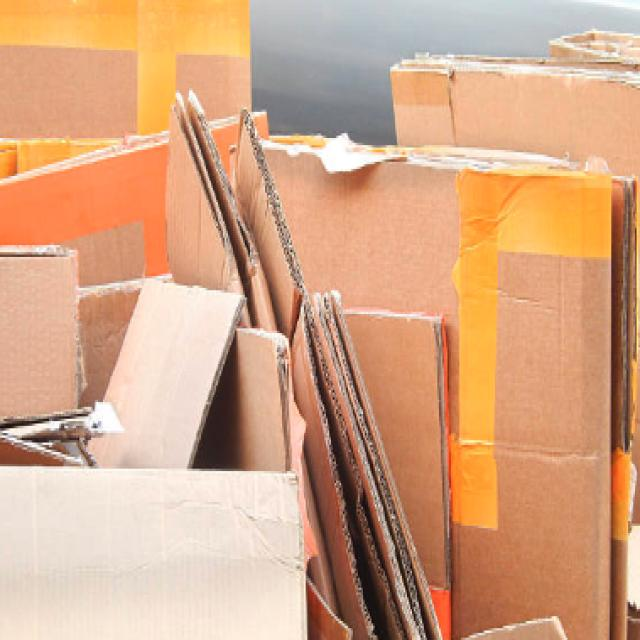Kardus: (0, 85, 638, 637), (228, 105, 453, 638)
